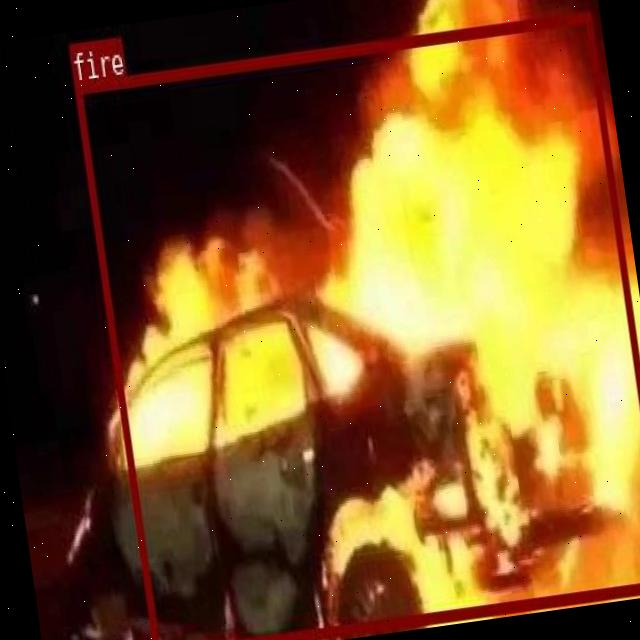fire: (73, 9, 640, 640)
